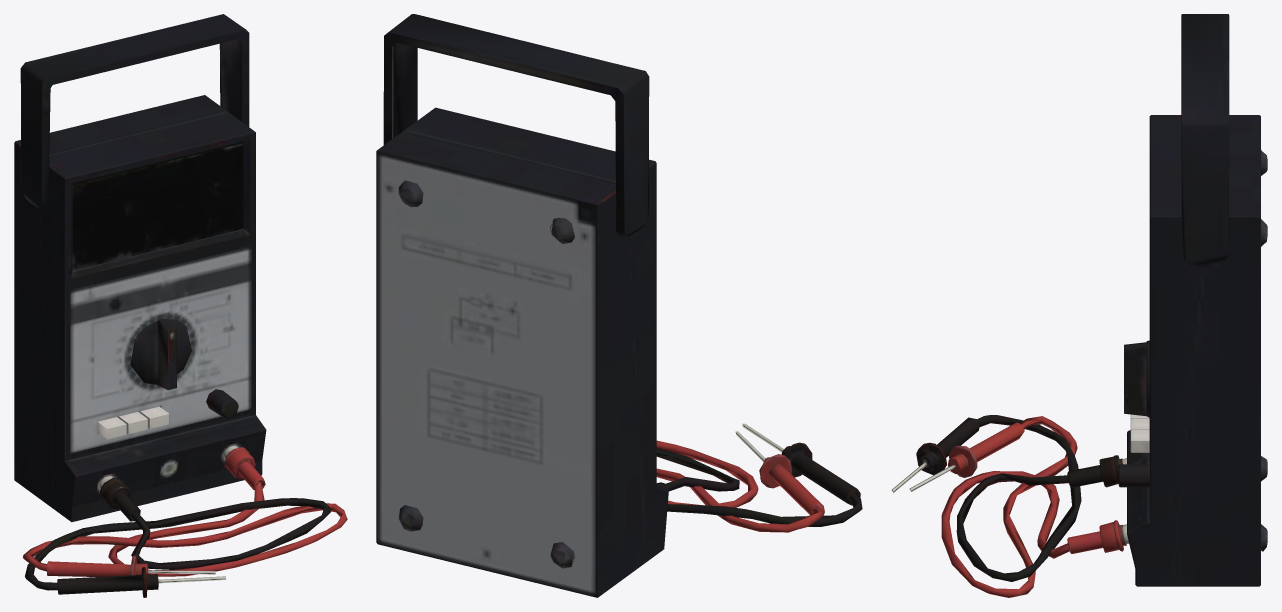
File: retro_multimeter.glb
3 views of the same model, side by side, from view 1: azimuth 30°, elevation 25°; view 2: azimuth 150°, elevation 25°; view 3: azimuth 270°, elevation 25° (orthographic). The views are drawn at different scales.
Parts seen in each view (by area): view 1: retro_multimeter_LOD0; view 2: retro_multimeter_LOD0; view 3: retro_multimeter_LOD0.
Part boxes in pixels (x1,y1,x2,y2): retro_multimeter_LOD0: [14, 14, 347, 597]; retro_multimeter_LOD0: [376, 14, 862, 597]; retro_multimeter_LOD0: [891, 14, 1267, 597].
Size of the model in its own units: 0.2155 by 0.2785 by 0.2022.
Materials: 2 (2 with a texture image).
